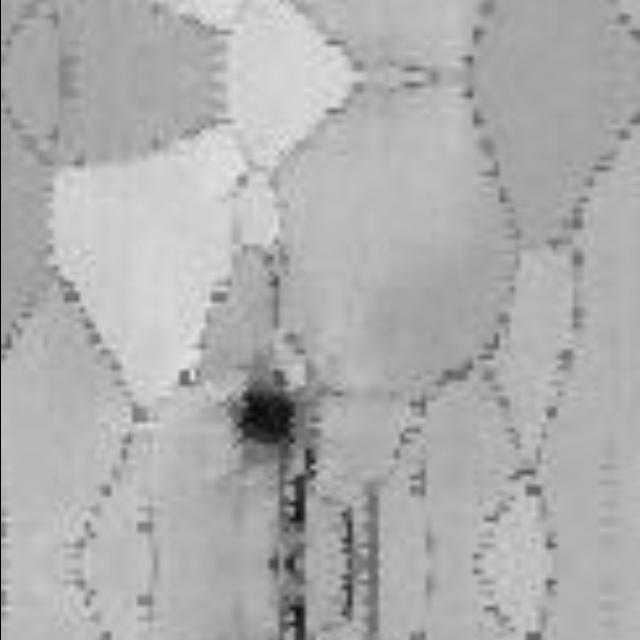good_void: (226, 374, 318, 529)
